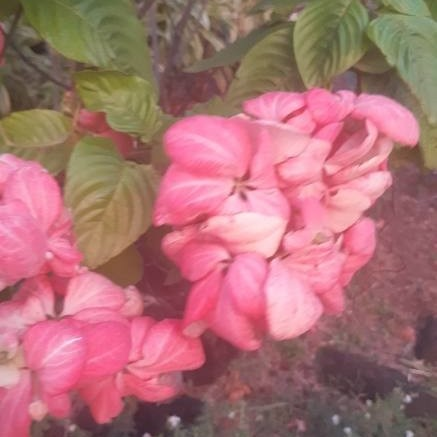obstacle: (8, 32, 399, 386)
